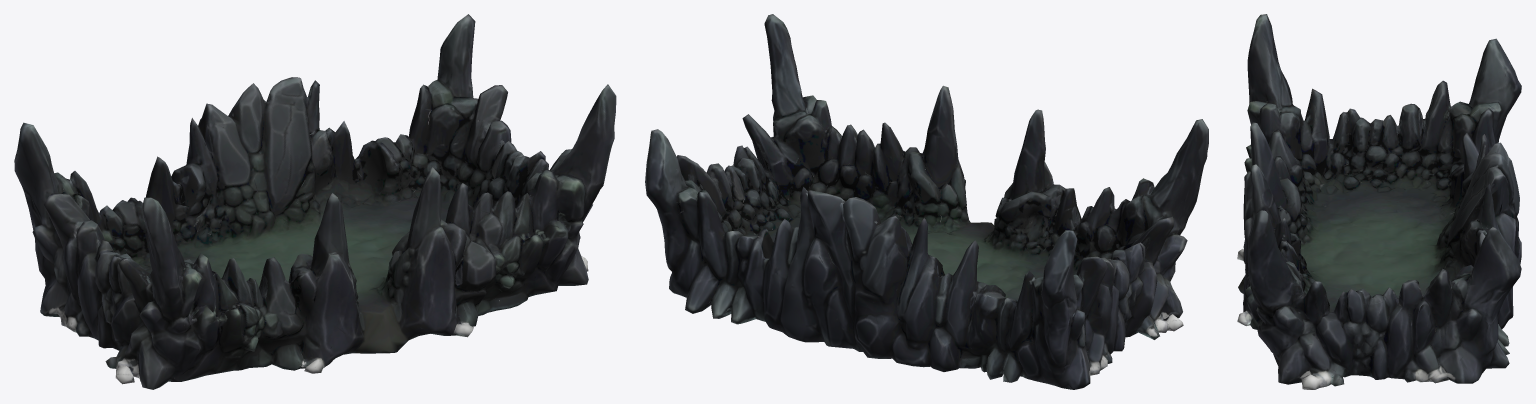
File: mining_zone_arena.glb
3 renders of one model, left to right at view 1: azimuth 30°, elevation 25°; view 2: azimuth 150°, elevation 25°; view 3: azimuth 270°, elevation 25°, orthographic. The views are drawn at different scales.
Parts seen in each view (by area): view 1: Mesh1.0; view 2: Mesh1.0; view 3: Mesh1.0.
Boxes of the visible parts, x1,y1,x2,y2 form: Mesh1.0: [14, 14, 616, 389]; Mesh1.0: [645, 14, 1208, 389]; Mesh1.0: [1237, 14, 1521, 389].
Size of the model in its own units: 24.29 by 10 by 14.48.
1 material, 1 textured.
